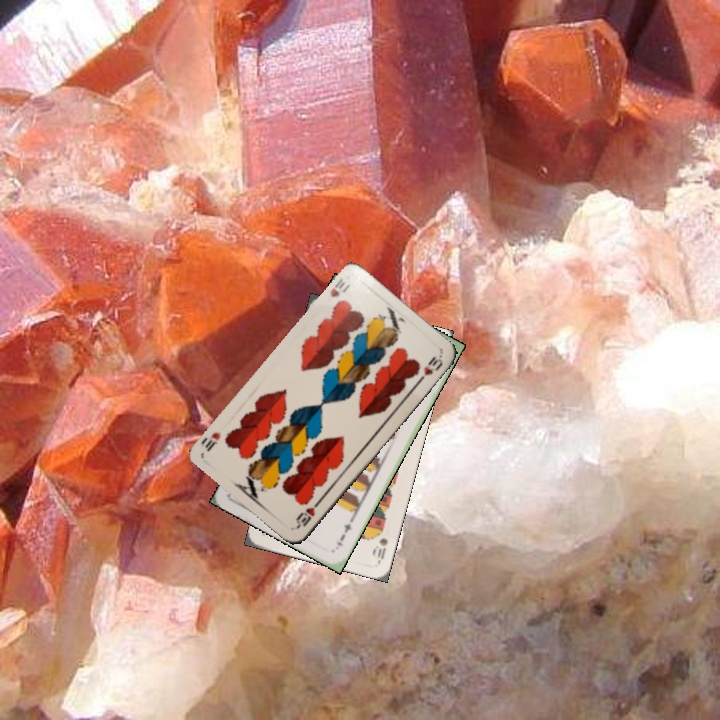E7: (332, 515, 356, 549)
H10: (292, 496, 323, 531), (326, 274, 353, 300)
S10: (369, 534, 390, 564)
